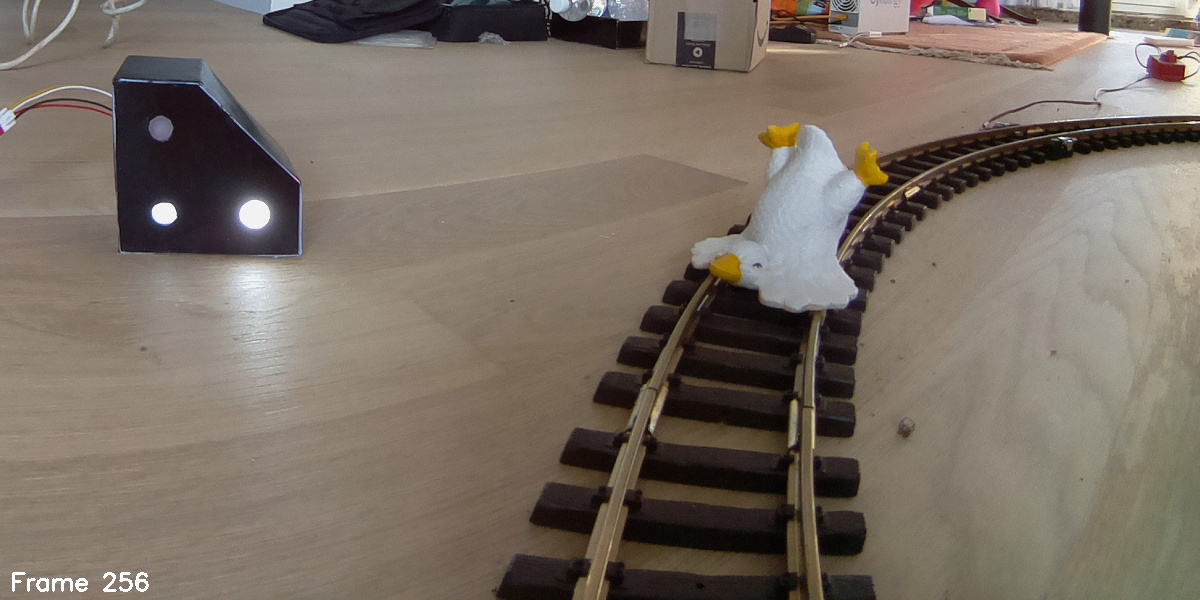Ente: (692, 122, 890, 314)
Halt: (117, 55, 301, 256)
